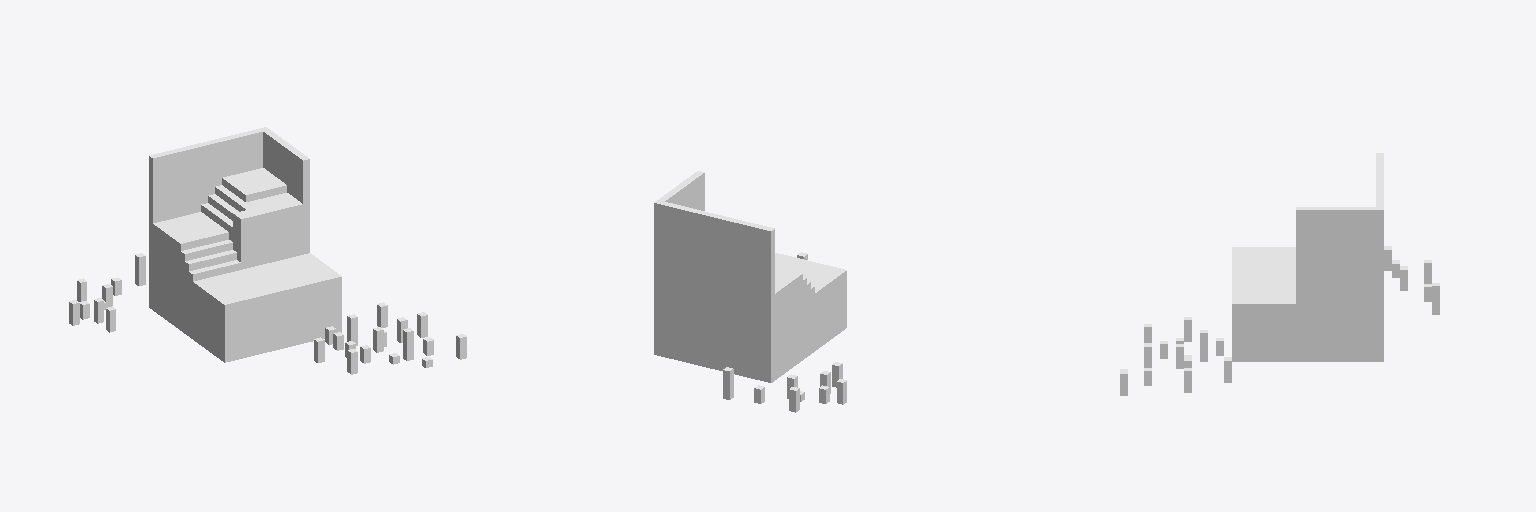
Rendered from level1.obj.
The picture shows the model from 3 angles: view 1: azimuth 30°, elevation 25°; view 2: azimuth 150°, elevation 25°; view 3: azimuth 270°, elevation 25°; orthographic projection.
Parts seen in each view (by area): view 1: object 1; view 2: object 1; view 3: object 1.
Part boxes in pixels (x1,y1,x2,y2): object 1: (69, 127, 466, 374); object 1: (654, 171, 846, 412); object 1: (1120, 153, 1439, 395).
Bounding box in the file's own units: 3.8 × 2.1 × 4.